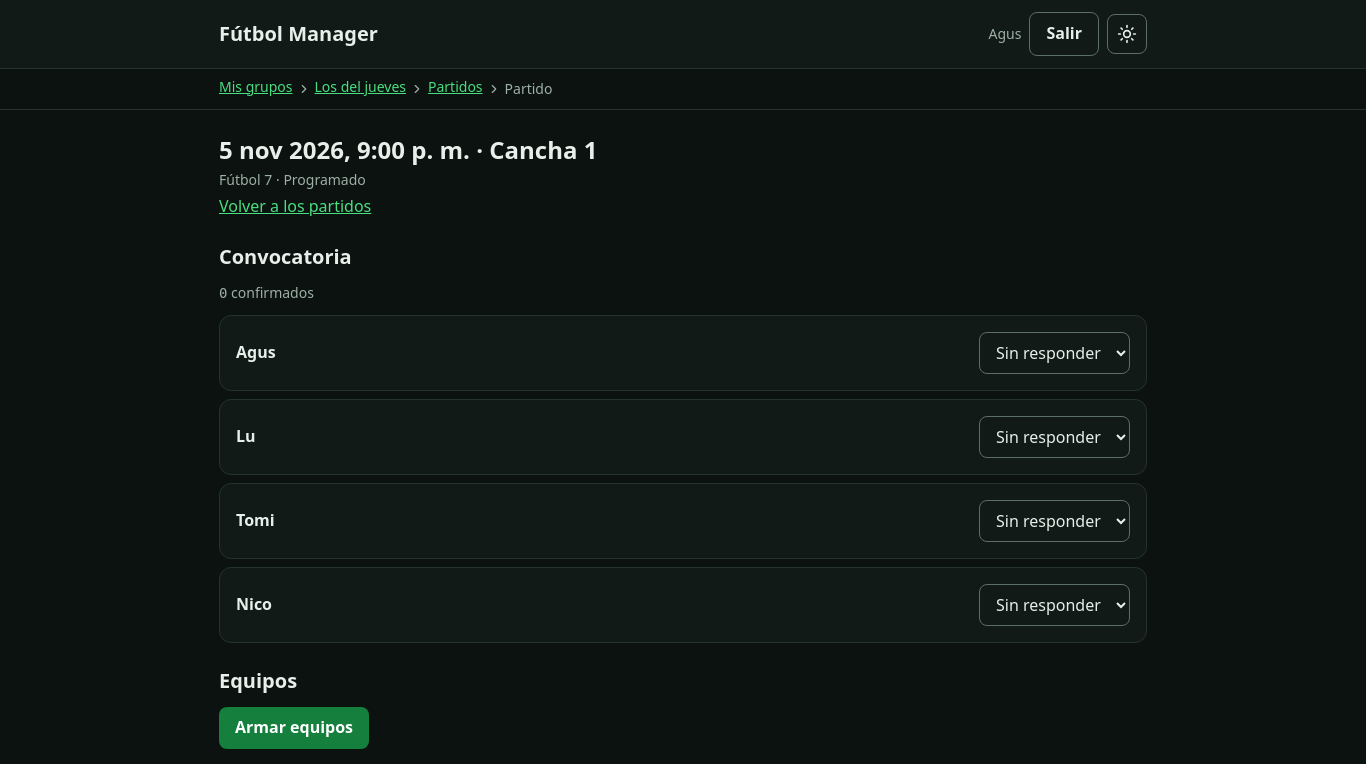
it: LineupBuilder: Otra opción › Otra opción se activa con el teclado igual que con el puntero
Click the button "Armar equipos".
click(294, 728)  # box [219,707,369,749]
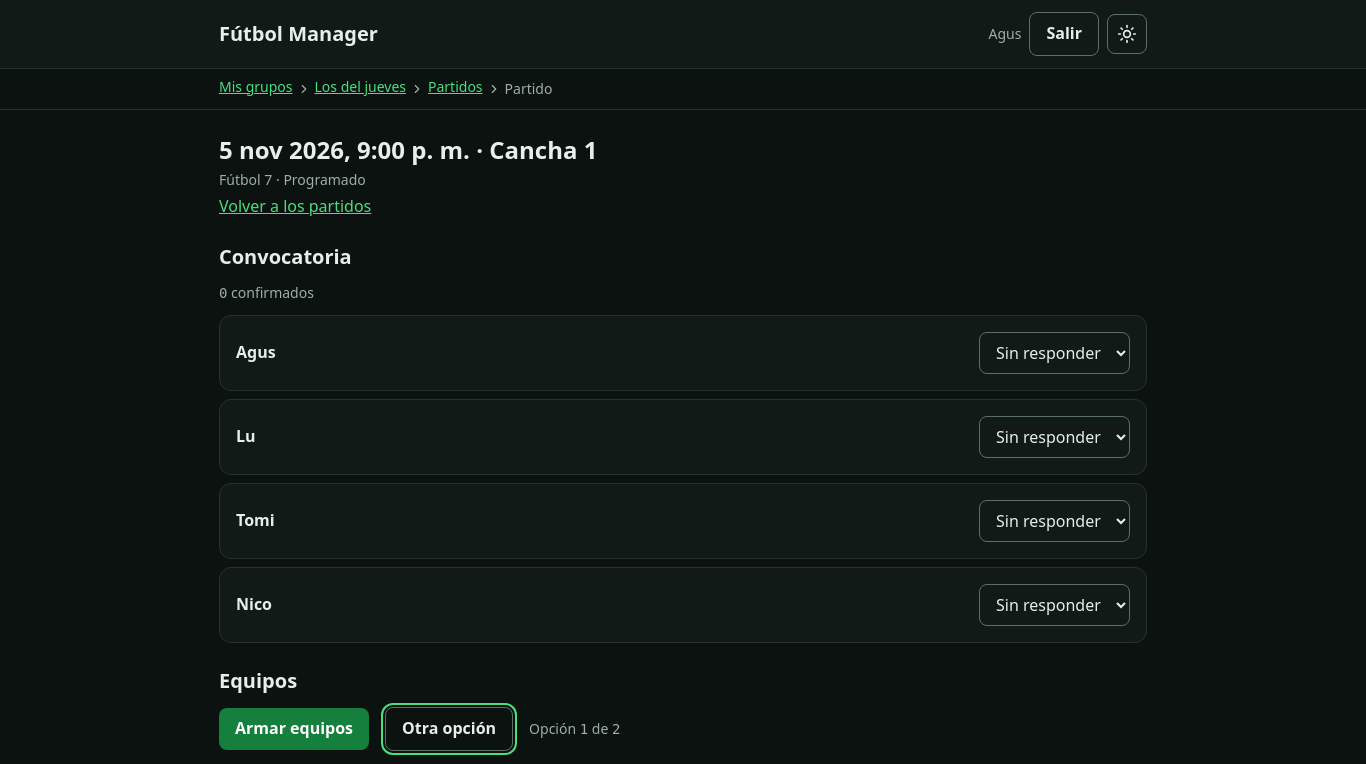
Press Enter
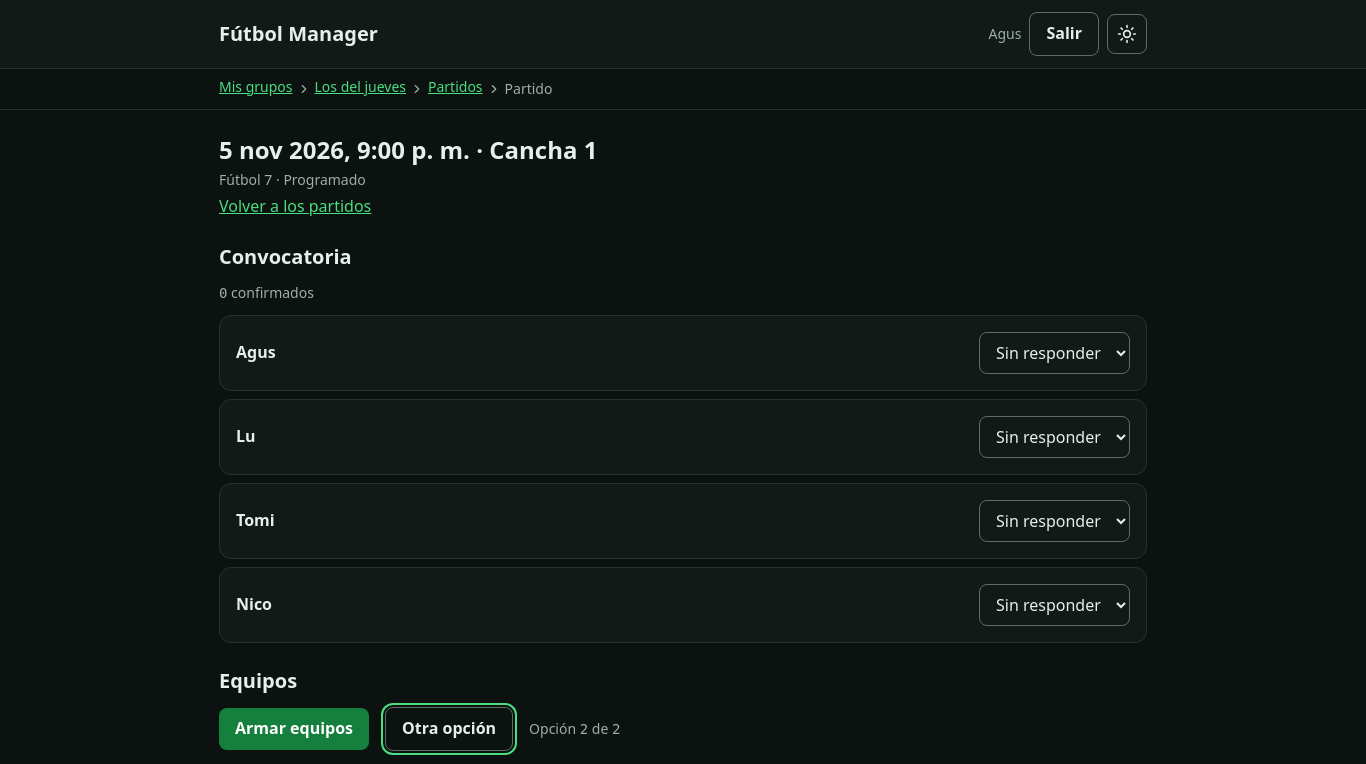
Now the text "Opción 2 de 2" is shown, box [529,719,620,739]
Type keys " "
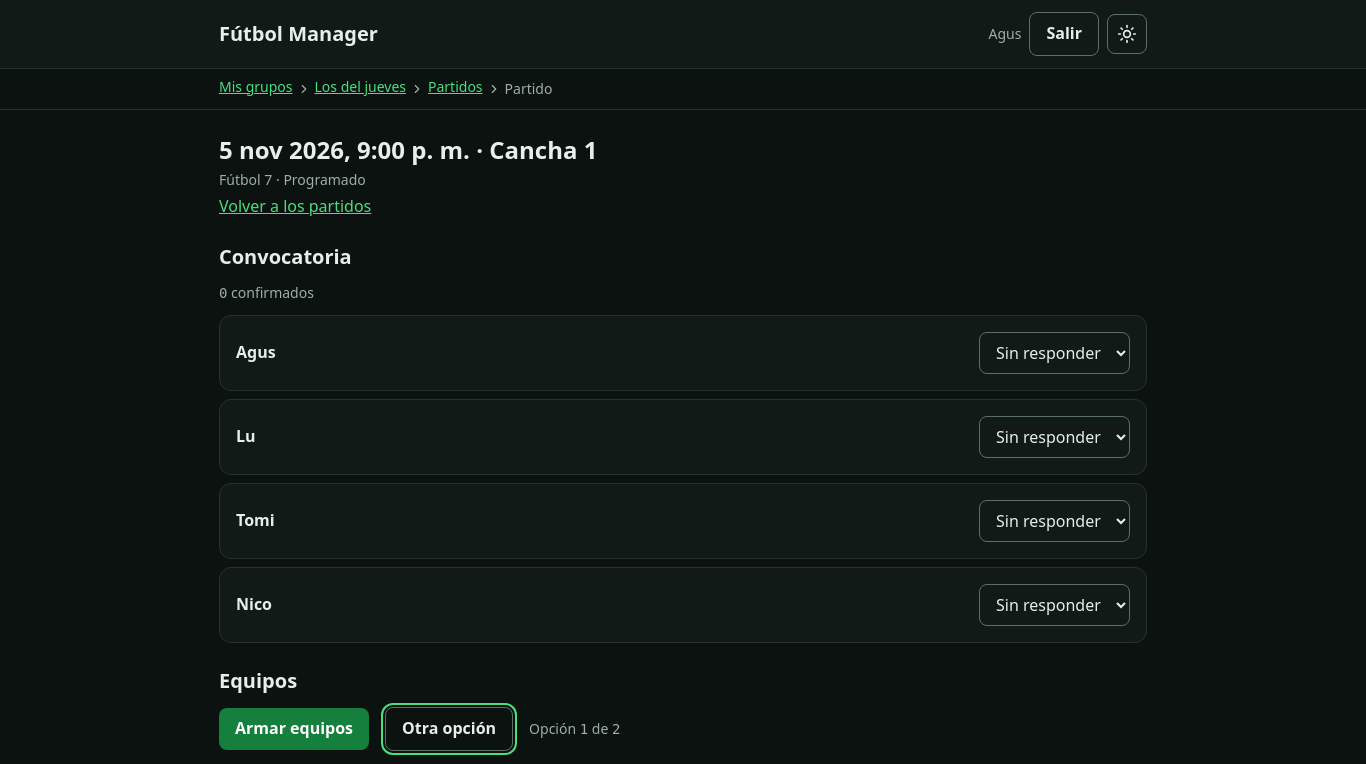
Now the text "Opción 1 de 2" is shown, box [529,719,620,739]
